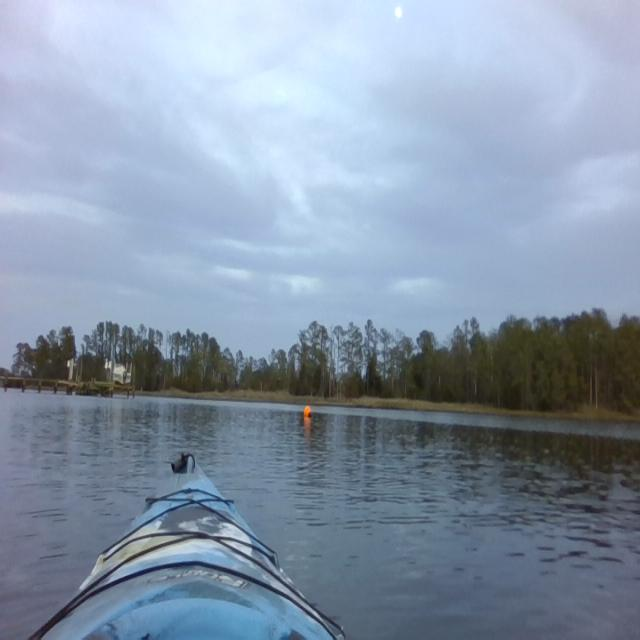Buoy: (302, 403, 314, 419)
